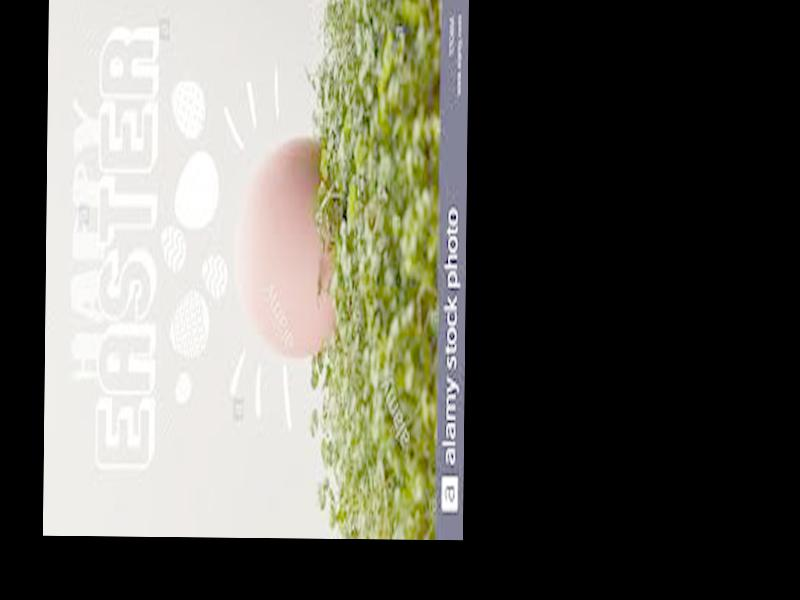Eggs: (235, 132, 338, 355)
